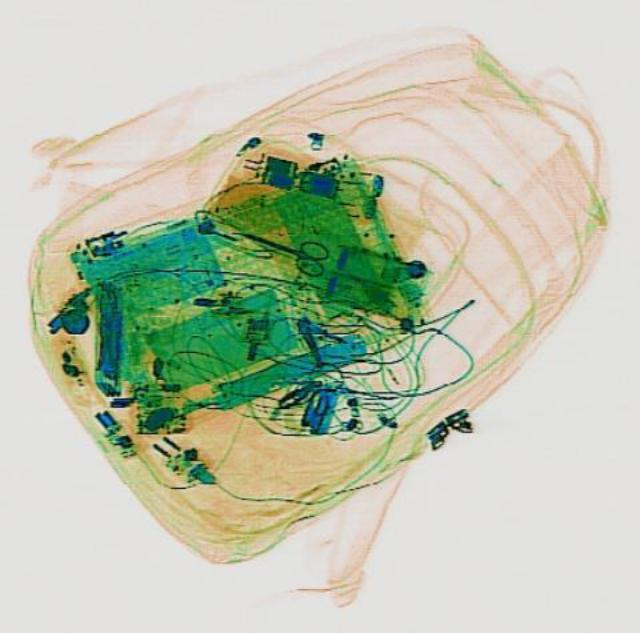Scissors: (228, 213, 332, 276)
